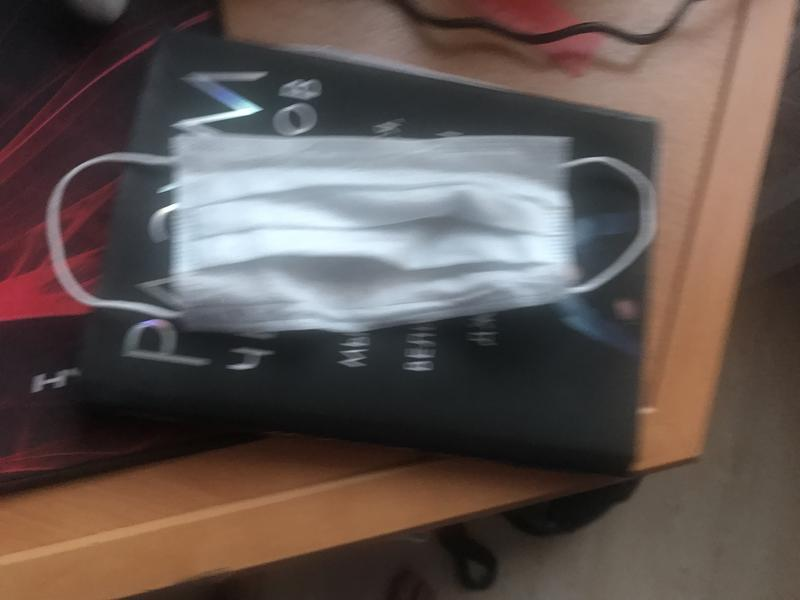medical_mask: (48, 139, 656, 319)
